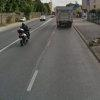Motorcycle: (13, 16, 33, 60)
